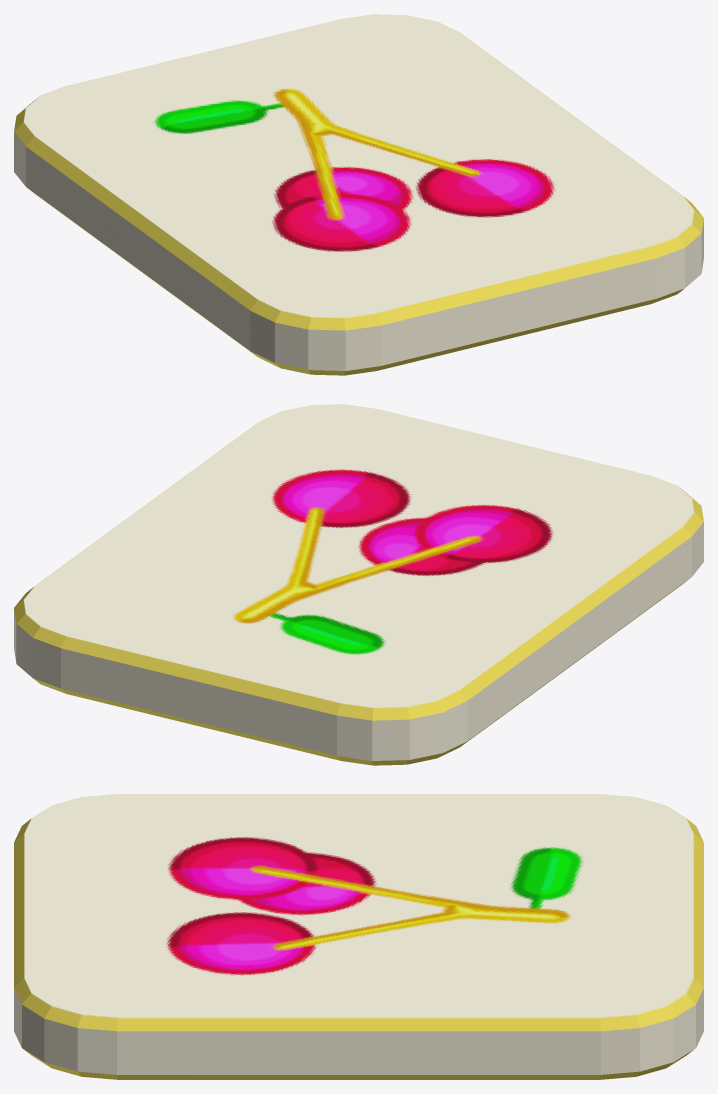
File: memory_card_9.fbx
The picture shows the model from 3 angles, top to bottom: view 1: azimuth 30°, elevation 25°; view 2: azimuth 150°, elevation 25°; view 3: azimuth 270°, elevation 25°; orthographic projection. The views are drawn at different scales.
Visible parts, largest first — view 1: Card9; view 2: Card9; view 3: Card9.
Boxes of the visible parts, box(x1,y1,x2,y2) form: Card9: box(14, 14, 703, 375); Card9: box(14, 404, 703, 765); Card9: box(14, 794, 703, 1079).
Size of the model in its own units: 40 by 5 by 50.22.
